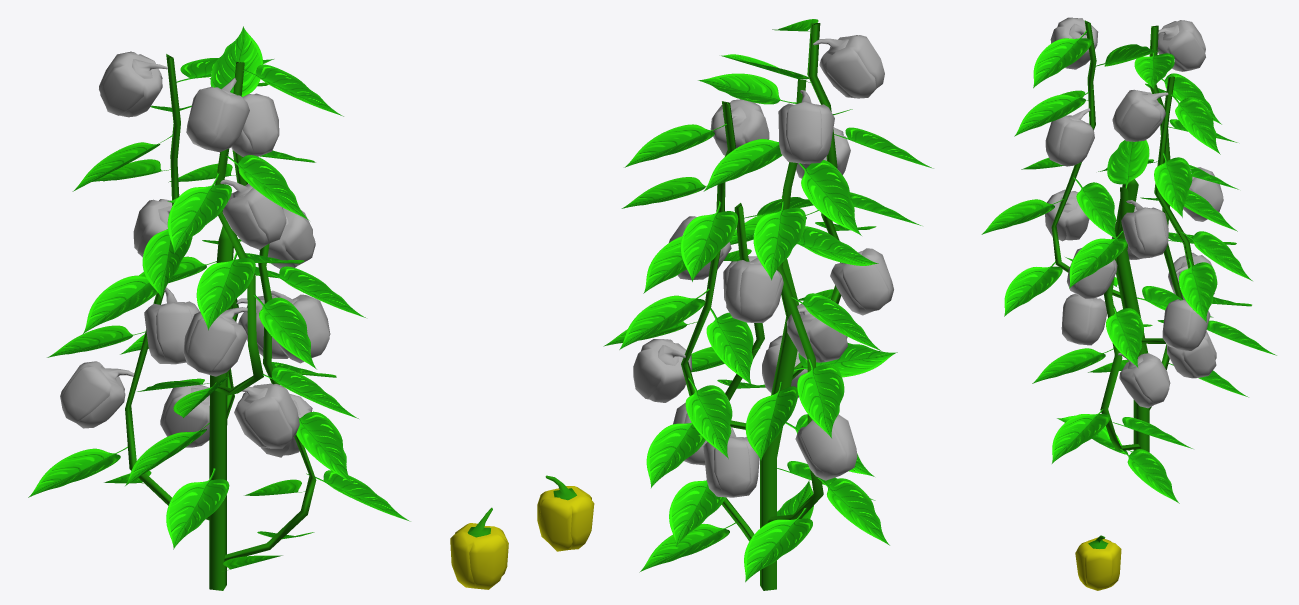
File: Bell Peppers Stage 3.fbx
The picture shows the model from 3 angles, left to right: view 1: azimuth 30°, elevation 25°; view 2: azimuth 150°, elevation 25°; view 3: azimuth 270°, elevation 25°; orthographic projection. The views are drawn at different scales.
Visible parts, largest first — view 1: Bell_Peppers_Body_Full_Grown, Bell_Pepper_Main_Mesh, pCube28, pCube35, pCube33, pCube31, pCube34, pCube32, pCube30, polySurface159, polySurface172, polySurface181 (+23 smaller); view 2: Bell_Peppers_Body_Full_Grown, Bell_Pepper_Main_Mesh, pCube33, pCube31, pCube29, pCube40, pCube41, pCube34, pCube28, polySurface180, polySurface163, polySurface178 (+28 smaller); view 3: Bell_Peppers_Body_Full_Grown, pCube39, pCube36, pCube32, Bell_Pepper_Main_Mesh, pCube38, pCube35, pCube31, pCube40, polySurface151, Bell_Pepper_Leaf, polySurface157 (+25 smaller).
Part boxes in pixels (x1,y1,x2,y2): Bell_Peppers_Body_Full_Grown: [125, 54, 316, 590]; Bell_Pepper_Main_Mesh: [450, 507, 508, 589]; pCube28: [60, 361, 134, 428]; pCube35: [234, 383, 299, 448]; pCube33: [186, 78, 249, 152]; pCube31: [99, 51, 167, 117]; pCube34: [183, 307, 247, 376]; pCube32: [220, 179, 286, 249]; pCube30: [144, 287, 199, 364]; polySurface159: [196, 252, 255, 330]; polySurface172: [166, 468, 229, 549]; polySurface181: [167, 172, 231, 253]; Bell_Peppers_Body_Full_Grown: [681, 23, 841, 590]; Bell_Pepper_Main_Mesh: [537, 475, 594, 551]; pCube33: [813, 35, 884, 98]; pCube31: [778, 90, 834, 163]; pCube29: [725, 257, 783, 322]; pCube40: [633, 339, 692, 402]; pCube41: [703, 426, 759, 497]; pCube34: [830, 248, 893, 315]; pCube28: [795, 414, 857, 480]; polySurface180: [799, 160, 861, 235]; polySurface163: [753, 196, 805, 280]; polySurface178: [680, 201, 738, 281]; Bell_Peppers_Body_Full_Grown: [1051, 20, 1193, 452]; pCube39: [1112, 89, 1168, 141]; pCube36: [1121, 200, 1168, 258]; pCube32: [1045, 108, 1094, 166]; Bell_Pepper_Main_Mesh: [1075, 535, 1121, 590]; pCube38: [1118, 353, 1170, 408]; pCube35: [1061, 293, 1107, 345]; pCube31: [1157, 20, 1205, 71]; pCube40: [1162, 299, 1210, 350]; polySurface151: [1179, 258, 1217, 322]; Bell_Pepper_Leaf: [1154, 152, 1192, 217]; polySurface157: [1033, 30, 1091, 88].
Size of the model in its own units: 1.47 by 1.94 by 1.16.
4 materials, 1 textured.
